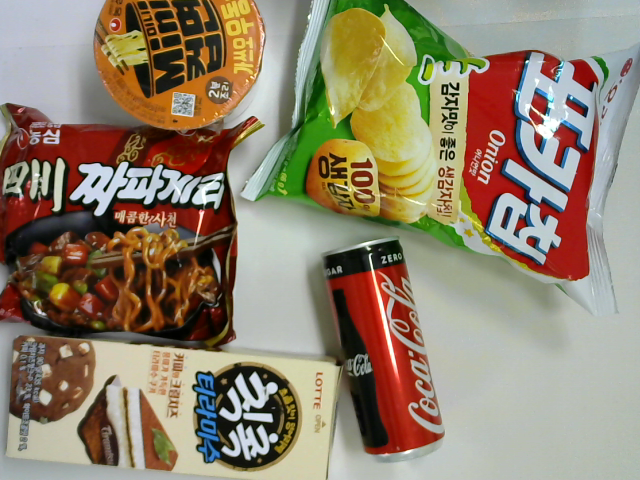Chicchok_Tiramisu: (1, 333, 348, 480)
Coca_Cola_Zero_Can_250ml: (320, 231, 446, 460)
Pocachip_Onion: (239, 1, 640, 316)
Sichuan_Chapaghetti: (1, 99, 265, 351)
Udongmini: (89, 1, 270, 136)
